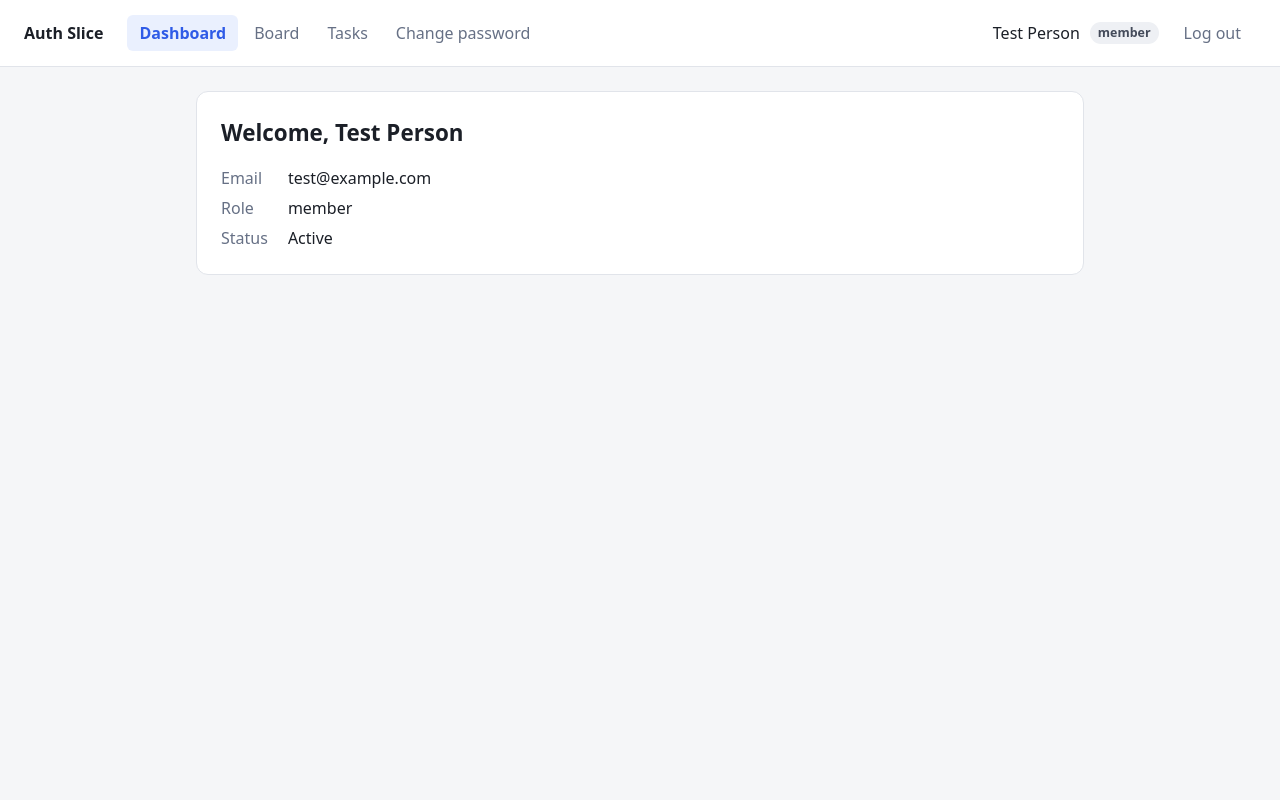
Test: login › logout ends access and returns to the login page
Click the button "Log out": (1212, 33) [1169,12,1256,54]
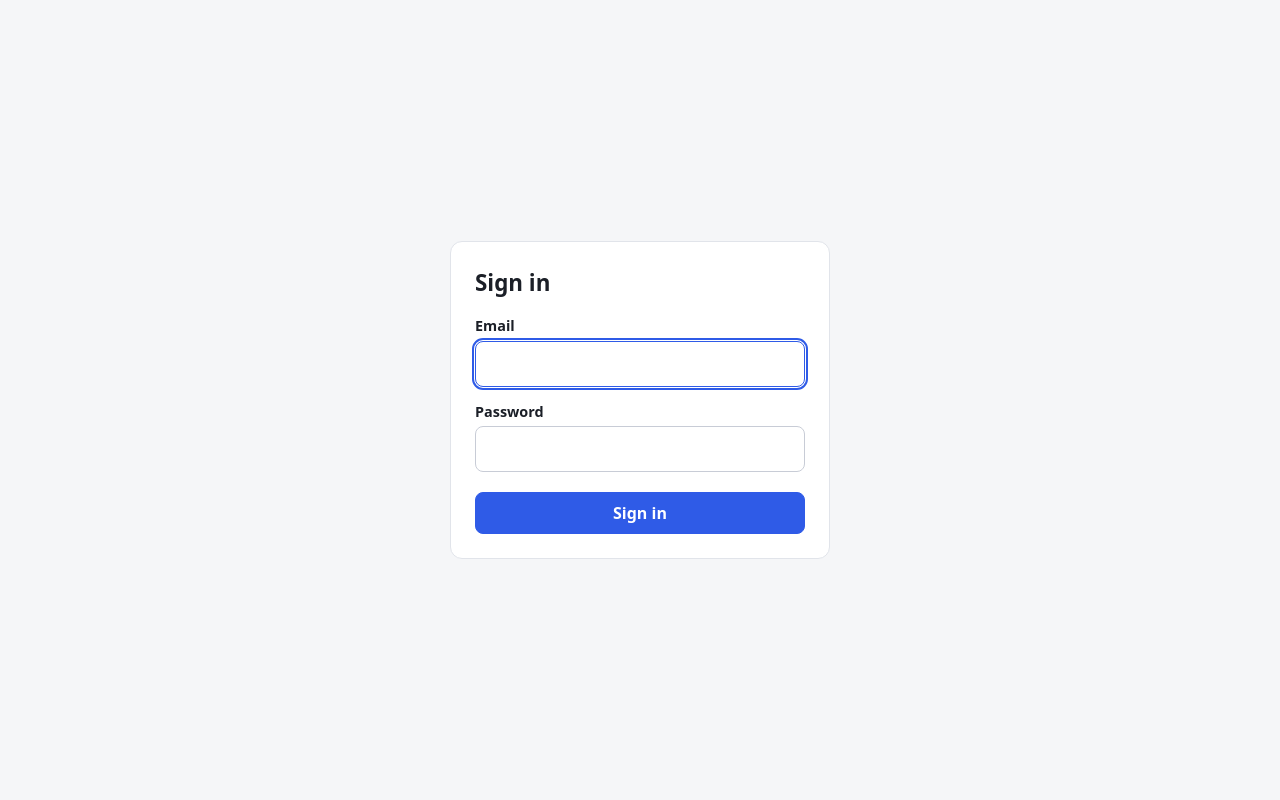
Check: the heading "Sign in" is shown, box [475,267,550,298]
